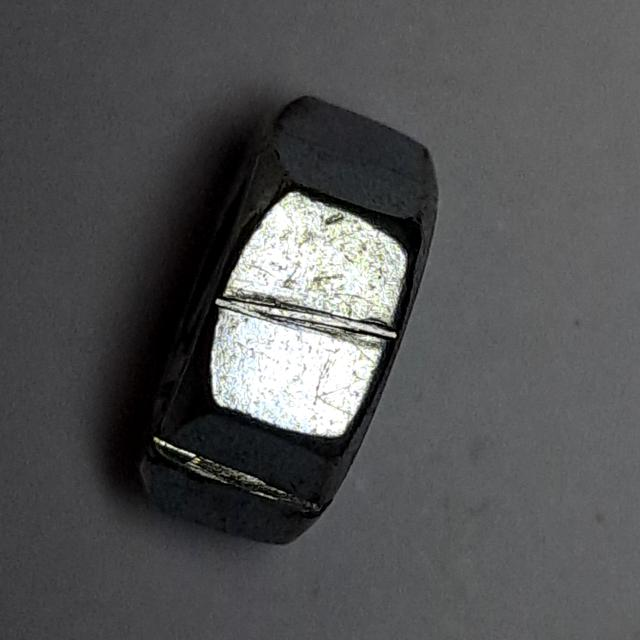Side_Scratches: (122, 81, 452, 562)
